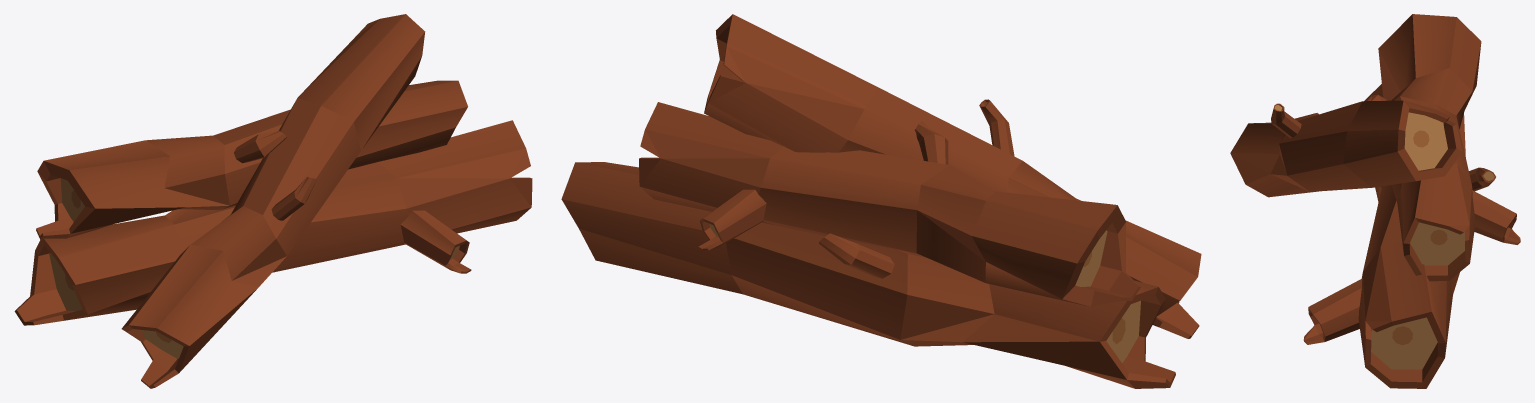
File: Belirteç.fbx
3 views of the same model, side by side, from view 1: azimuth 30°, elevation 25°; view 2: azimuth 150°, elevation 25°; view 3: azimuth 270°, elevation 25° (orthographic). The views are drawn at different scales.
Parts seen in each view (by area): view 1: Log.003; view 2: Log.003; view 3: Log.003.
Part boxes in pixels (box(x1,y1,x2,y2)): Log.003: box(14, 14, 532, 388); Log.003: box(561, 14, 1201, 388); Log.003: box(1230, 14, 1520, 388).
Size of the model in its own units: 3.23 by 1.51 by 1.56.
